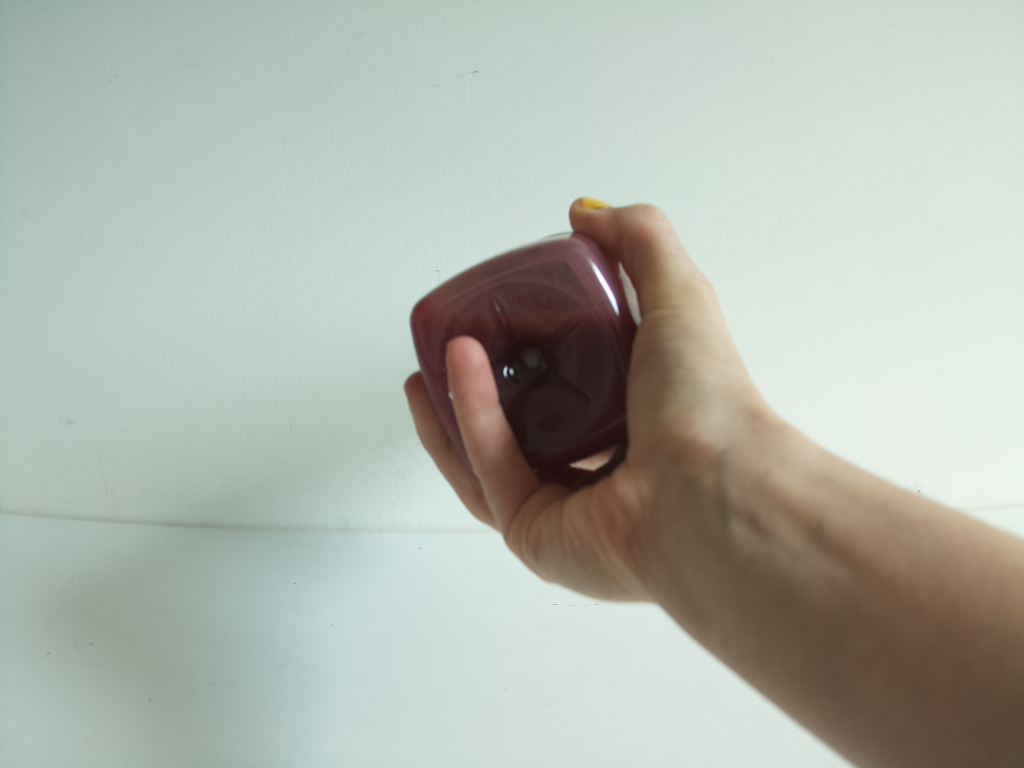juice: (408, 226, 663, 484)
